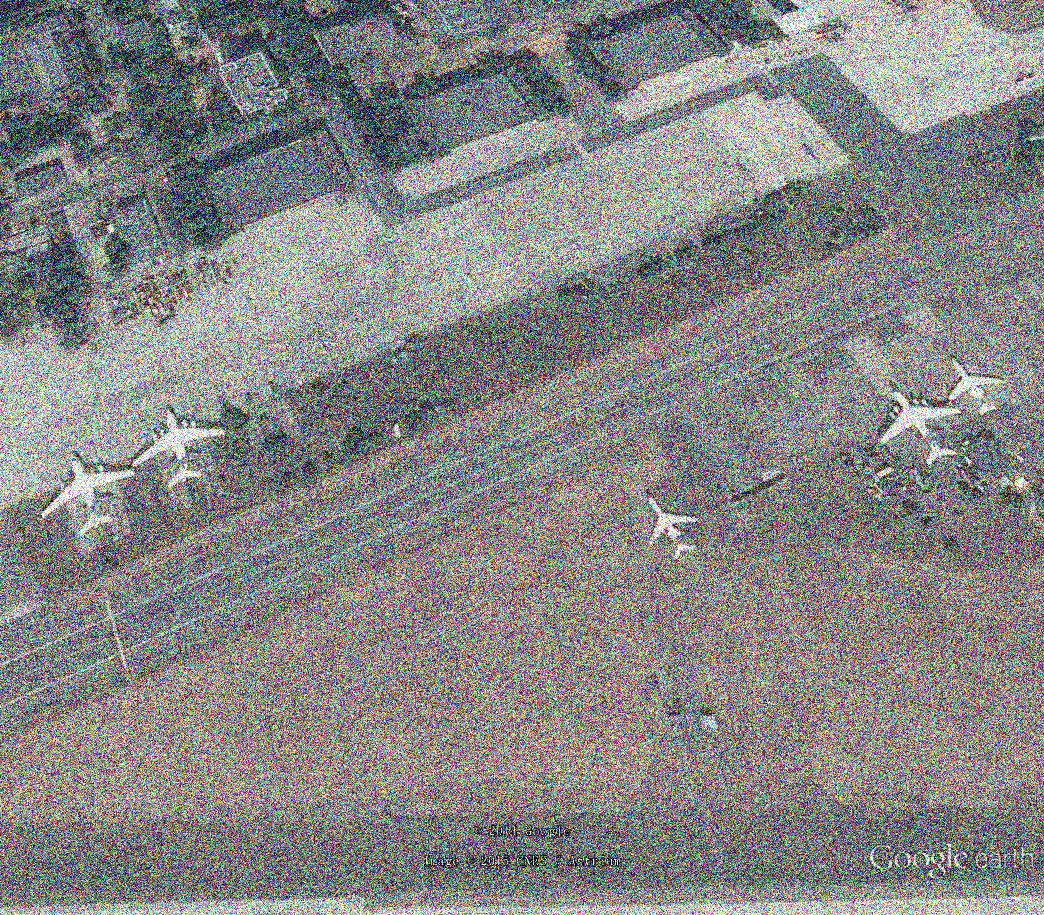aircraft: (130, 403, 231, 496), (34, 454, 142, 540), (874, 384, 966, 471), (643, 489, 705, 565), (946, 352, 1008, 420)
